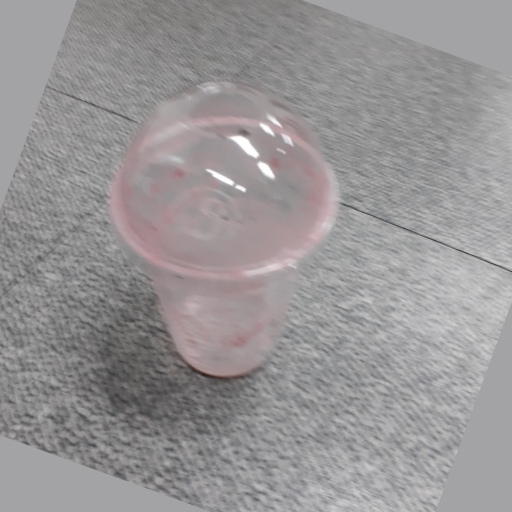Plastic_2: (108, 79, 341, 380)
